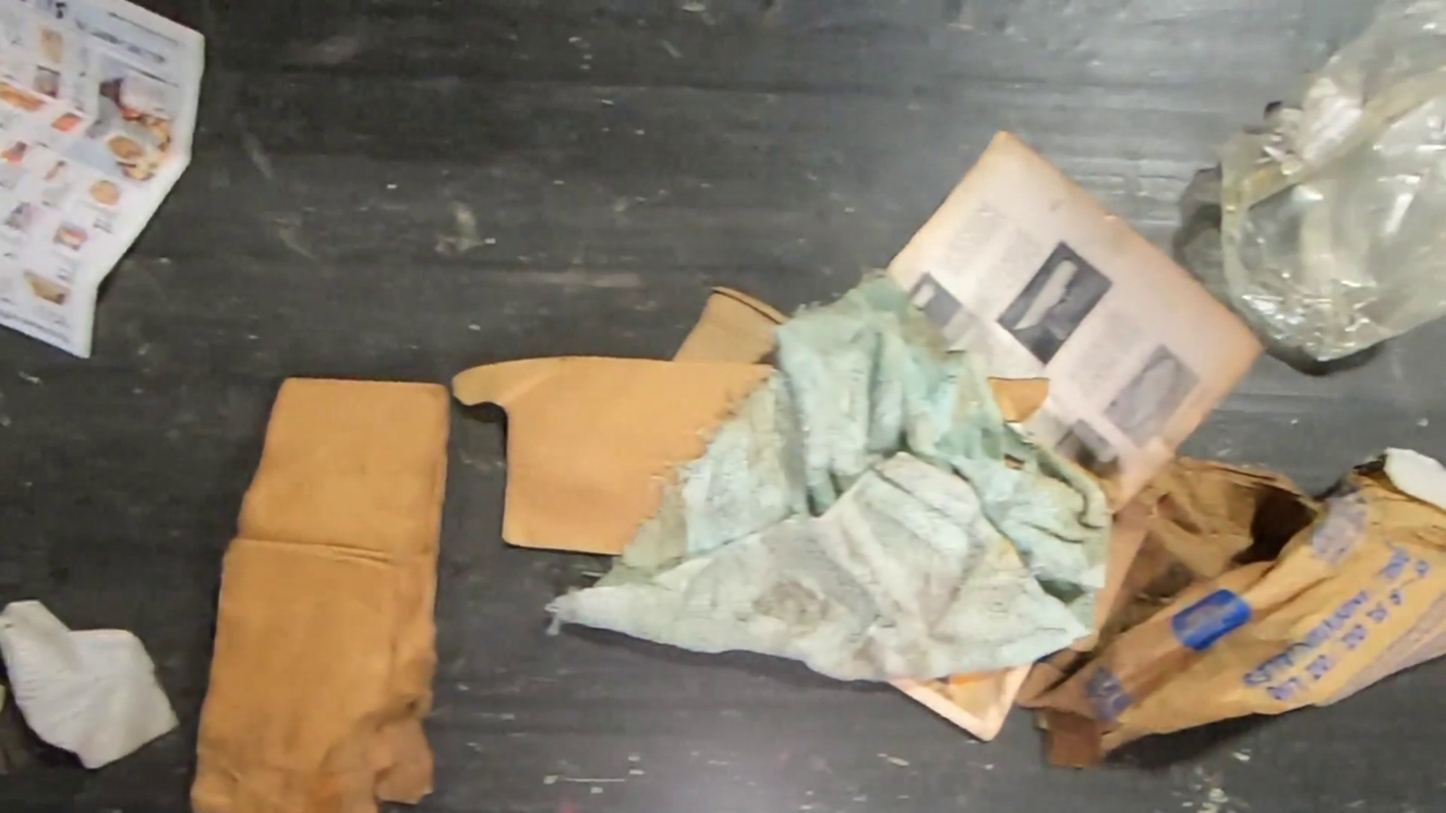cardboard: (107, 373, 454, 813), (1014, 447, 1446, 772), (446, 284, 793, 556)
plastic: (1199, 0, 1446, 364)
